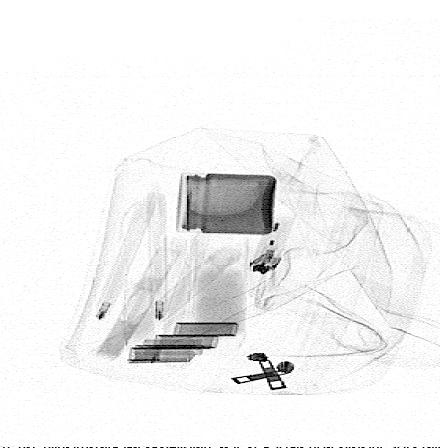Lighter: (248, 192, 302, 275)
